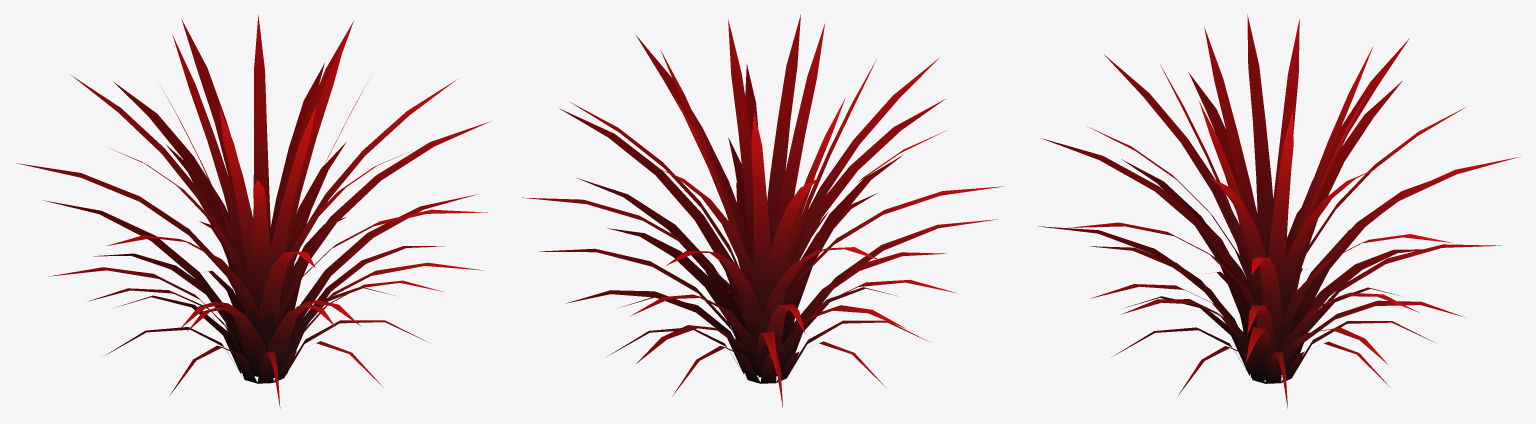
File: SM_Tussock.fbx
3 renders of one model, left to right at view 1: azimuth 30°, elevation 25°; view 2: azimuth 150°, elevation 25°; view 3: azimuth 270°, elevation 25°, orthographic.
Parts seen in each view (by area): view 1: SM_Tussock; view 2: SM_Tussock; view 3: SM_Tussock.
Boxes of the visible parts, x1,y1,x2,y2 form: SM_Tussock: (17,15,490,408); SM_Tussock: (522,14,1003,407); SM_Tussock: (1038,14,1520,408).
Bounding box in the file's own units: 35.98 × 25.32 × 35.92.
